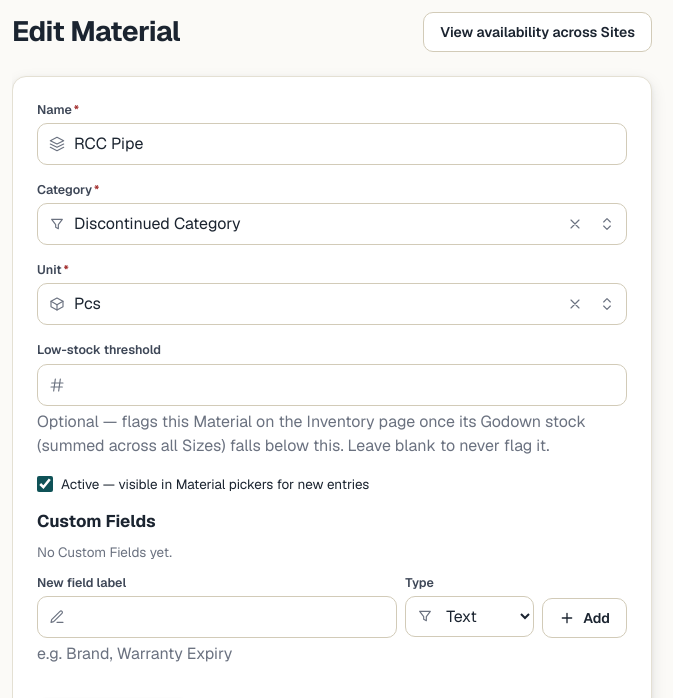
Test case: EditMaterialPage › keeps the Material's own current Category selectable even if it has since been disabled
The image size is (673, 698).
Expected: the dropdown labelled "Category" holds "Discontinued Category", [37,203,627,245]
Click the button named "Open Category options" at (607, 224), box [591,208,623,240]
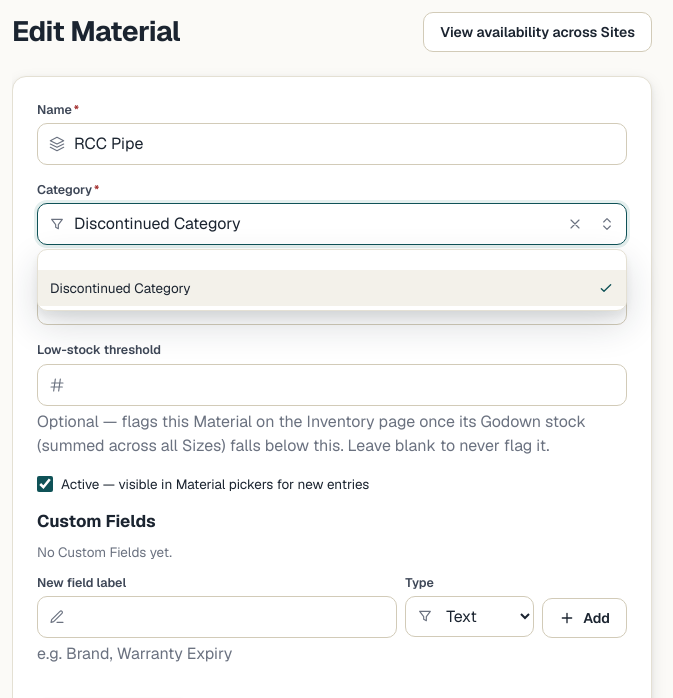
Expected: the option "Discontinued Category" is shown, [38,270,626,306]
